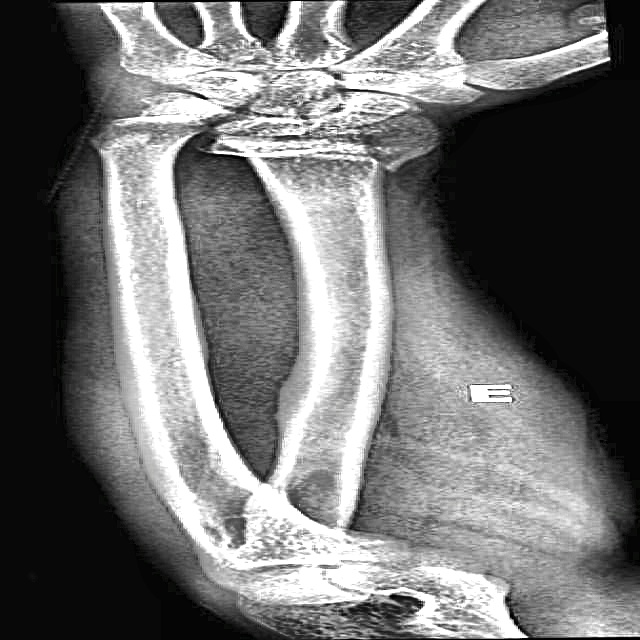Healthy: (73, 154, 450, 509)
